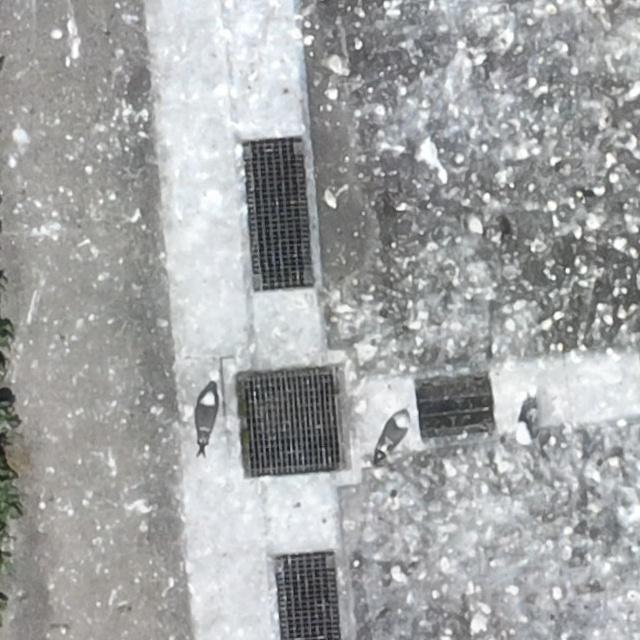umineko: (370, 412, 408, 469), (194, 391, 215, 450), (516, 412, 538, 446)
